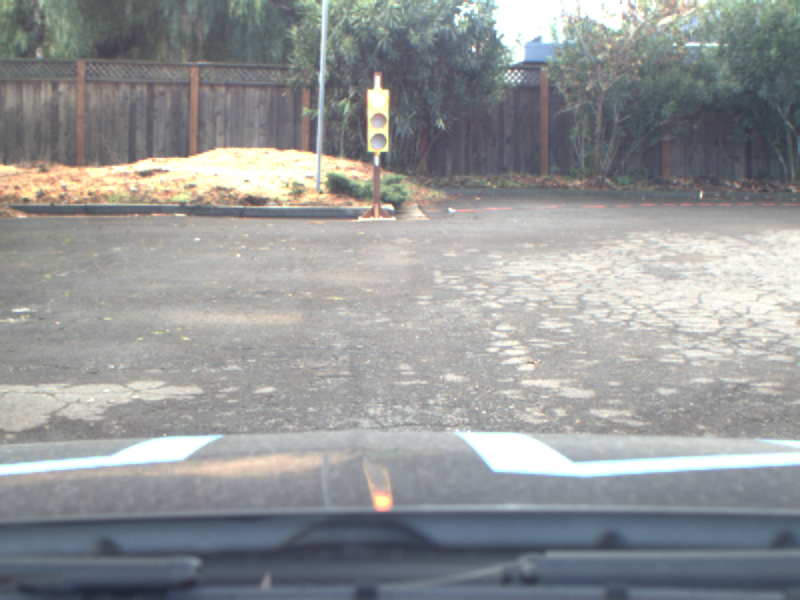Red: (366, 89, 389, 152)
